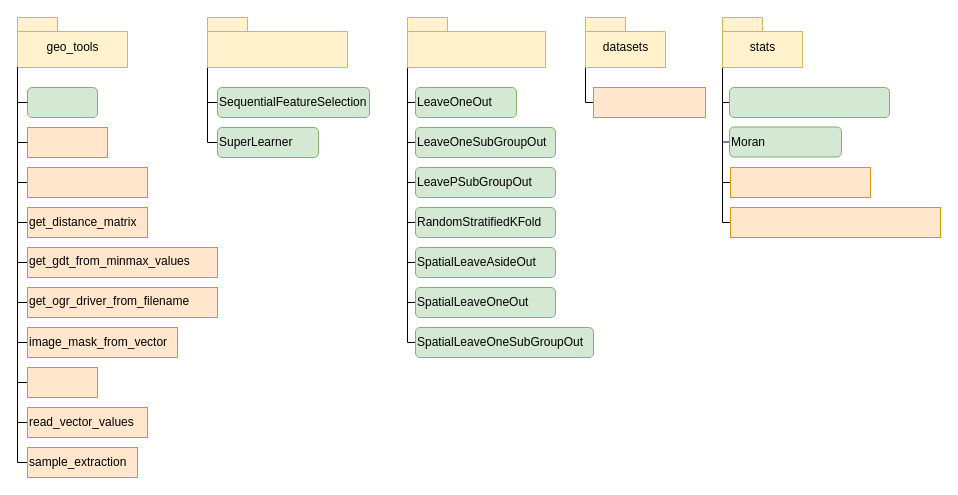
This 958x495 diagram has some shape labels left out. The centre of each missing label's shape, as x and y in pixels:
"ai" belongs at (x=277, y=42).
"commission_omission" belongs at (x=800, y=182).
"ComputeConfusionMatrix" belongs at (x=809, y=102).
"convert_dt" belongs at (x=67, y=142).
"cross_validation" belongs at (x=476, y=42).
"extract_ROI" belongs at (x=87, y=182).
"load_historical_data" belongs at (x=649, y=102).
"rasterize" belongs at (x=62, y=382).
"RasterMath" belongs at (x=62, y=102).
"retrieve_y_from_confusion_matrix" belongs at (x=835, y=222).
